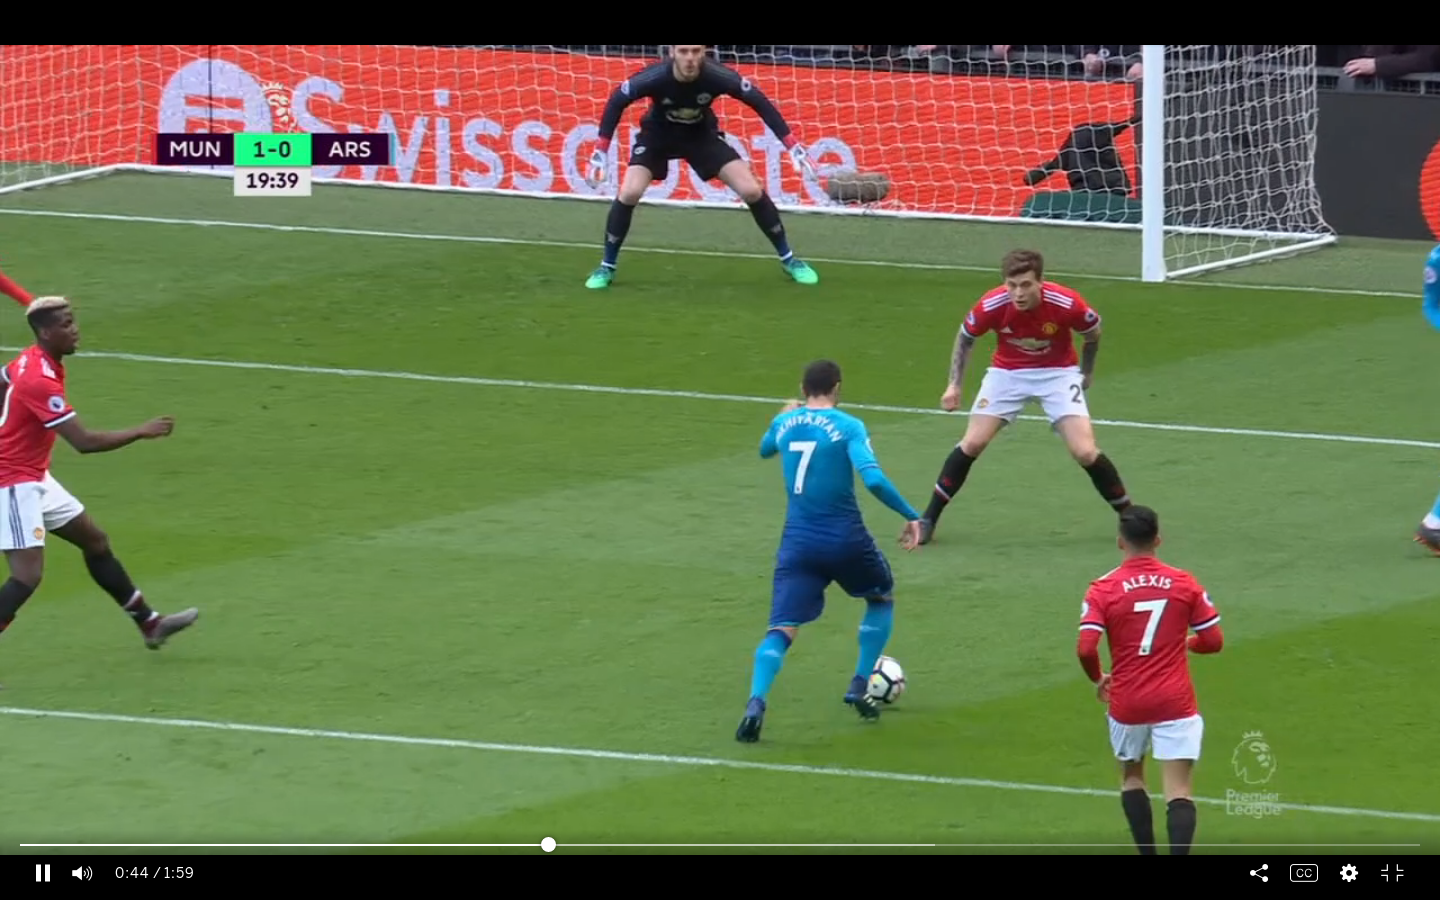soccer player: (1, 293, 205, 672), (899, 248, 1162, 532), (736, 359, 925, 749), (579, 46, 833, 296), (1079, 499, 1230, 848)
soccerball: (858, 652, 913, 716)
